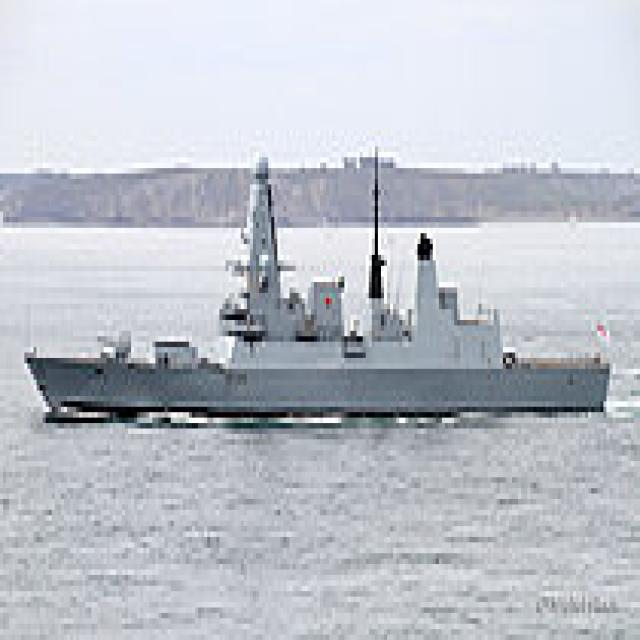Warship: (15, 141, 610, 418)
